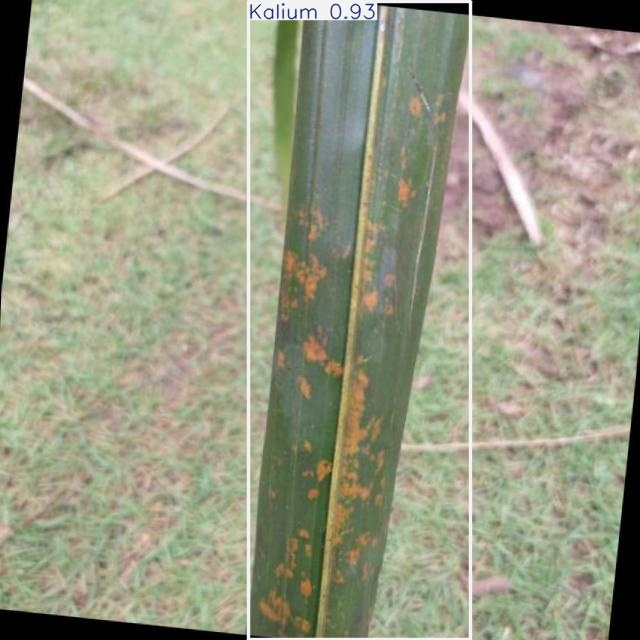Kalium: (248, 2, 471, 639)
